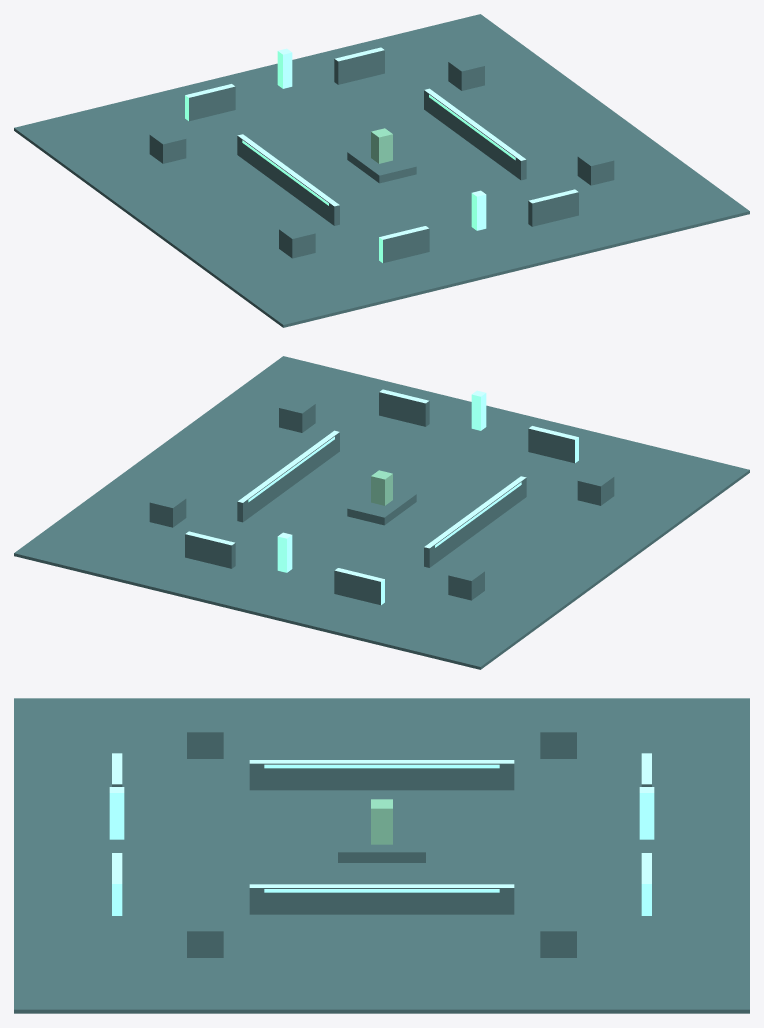
File: Arena_World3_Blockout.fbx
3 renders of one model, top to bottom at view 1: azimuth 30°, elevation 25°; view 2: azimuth 150°, elevation 25°; view 3: azimuth 270°, elevation 25°, orthographic. The views are drawn at different scales.
Visible parts, largest first — view 1: Arena_World3_Blockout; view 2: Arena_World3_Blockout; view 3: Arena_World3_Blockout.
Boxes of the visible parts, x1=… form: Arena_World3_Blockout: x1=14, y1=14, x2=749, y2=327; Arena_World3_Blockout: x1=14, y1=356, x2=749, y2=669; Arena_World3_Blockout: x1=14, y1=698, x2=749, y2=1013.
Size of the model in its own units: 50 by 5.1 by 50.
